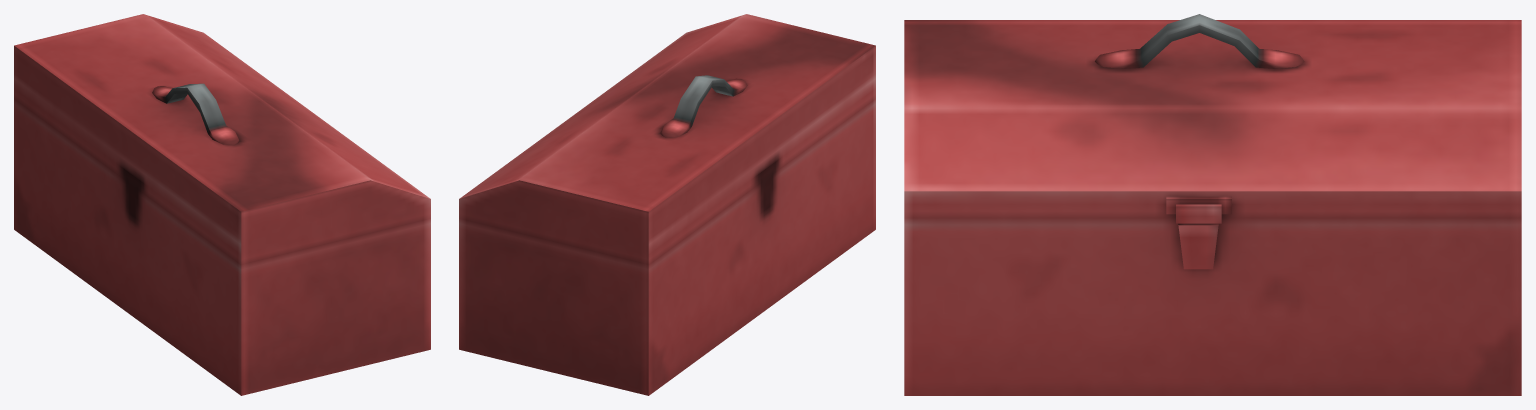
The model's file is G_DanShenHan_gongjuxiang_01.FBX.
3 renders of one model, left to right at view 1: azimuth 30°, elevation 25°; view 2: azimuth 150°, elevation 25°; view 3: azimuth 270°, elevation 25°, orthographic. The views are drawn at different scales.
Parts seen in each view (by area): view 1: DanShenHan_gongjuxiang_01; view 2: DanShenHan_gongjuxiang_01; view 3: DanShenHan_gongjuxiang_01.
Part boxes in pixels (x1,y1,x2,y2): DanShenHan_gongjuxiang_01: (14, 14, 430, 395); DanShenHan_gongjuxiang_01: (459, 14, 875, 395); DanShenHan_gongjuxiang_01: (904, 14, 1521, 395).
Size of the model in its own units: 42.33 by 44.44 by 85.01.
